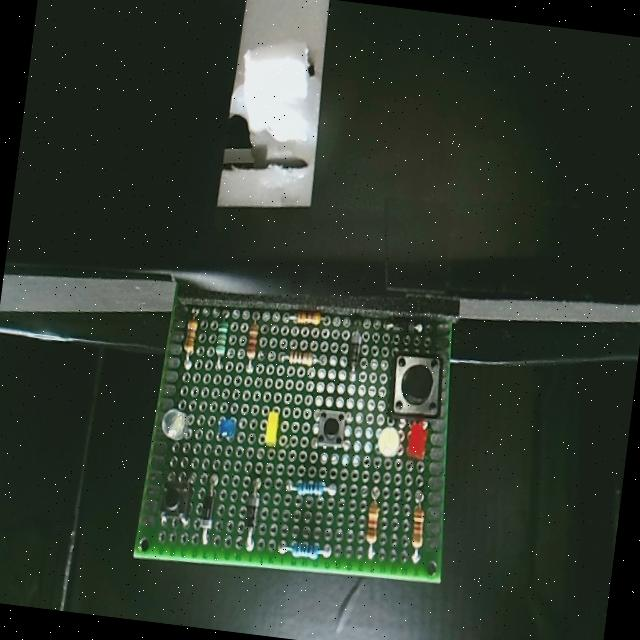diode: (230, 476, 267, 554), (195, 469, 228, 544), (378, 309, 421, 340), (344, 328, 367, 380)
led: (155, 394, 199, 448), (252, 396, 290, 458), (376, 418, 406, 462), (404, 418, 429, 467), (215, 412, 238, 444)
resistor: (276, 528, 328, 571), (173, 307, 209, 366), (232, 316, 268, 372), (206, 312, 238, 366), (287, 476, 334, 512), (268, 344, 322, 374), (356, 495, 383, 553), (401, 500, 427, 560), (284, 303, 329, 336)
switch: (387, 342, 449, 428), (146, 471, 194, 534), (308, 399, 352, 452)
